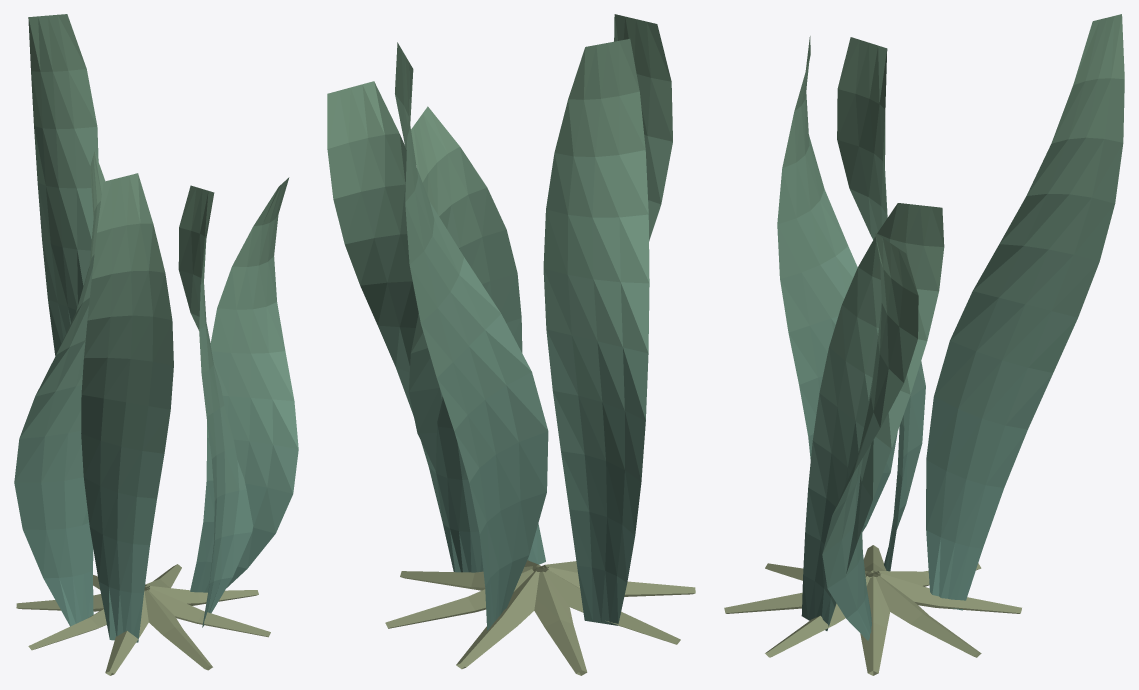
File: RibbonHabitat1.gltf
3 renders of one model, left to right at view 1: azimuth 30°, elevation 25°; view 2: azimuth 150°, elevation 25°; view 3: azimuth 270°, elevation 25°, orthographic. The views are drawn at different scales.
Parts seen in each view (by area): view 1: RibbonHabitat1; view 2: RibbonHabitat1; view 3: RibbonHabitat1.
Boxes of the visible parts, x1,y1,x2,y2 form: RibbonHabitat1: [14, 14, 298, 675]; RibbonHabitat1: [327, 14, 695, 675]; RibbonHabitat1: [724, 14, 1124, 675].
Bounding box in the file's own units: 1.07 × 1.98 × 1.19.
